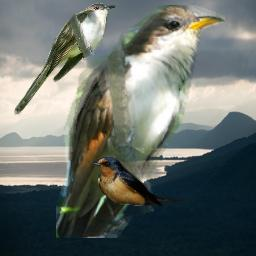Cuckoo: (56, 5, 225, 238), (13, 2, 116, 117)
Swallow: (92, 157, 191, 206)
